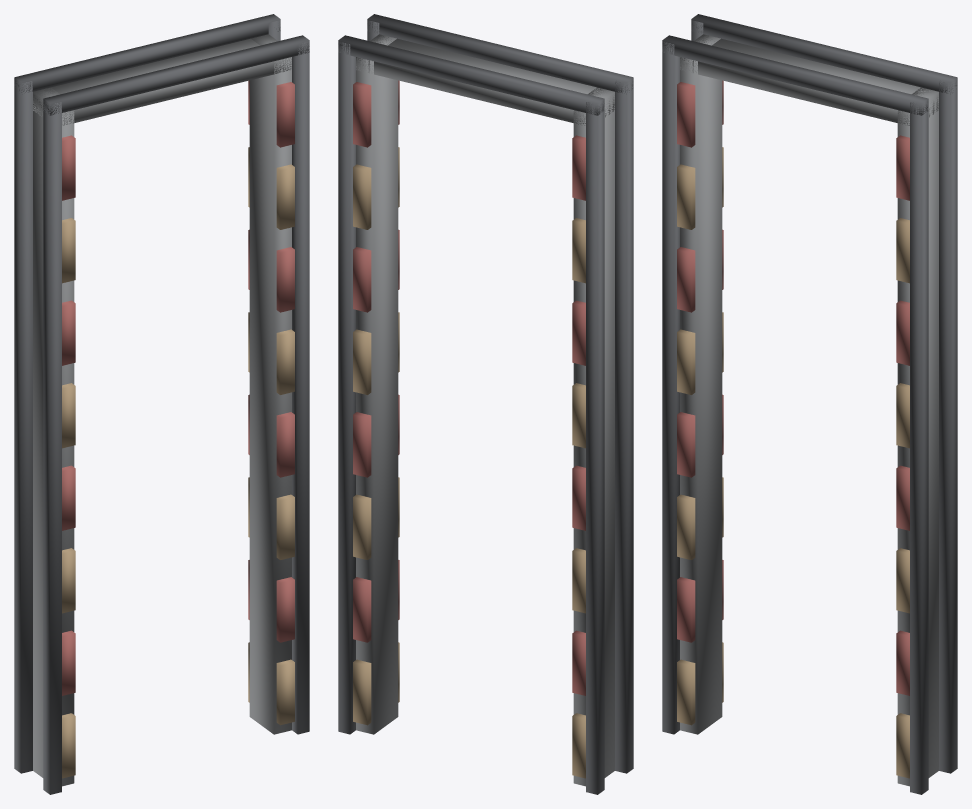
Rendered from doorway_brick_return_w76_h240_d16.glb.
The picture shows the model from 3 angles, left to right: view 1: azimuth 30°, elevation 25°; view 2: azimuth 150°, elevation 25°; view 3: azimuth 330°, elevation 25°; orthographic projection.
Parts seen in each view (by area): view 1: world; view 2: world; view 3: world.
Part boxes in pixels (<box>): world: <box>14,14,309,794</box>; world: <box>338,14,633,794</box>; world: <box>662,14,957,794</box>.
Size of the model in its own units: 0.9868 by 2.51 by 0.2365.
